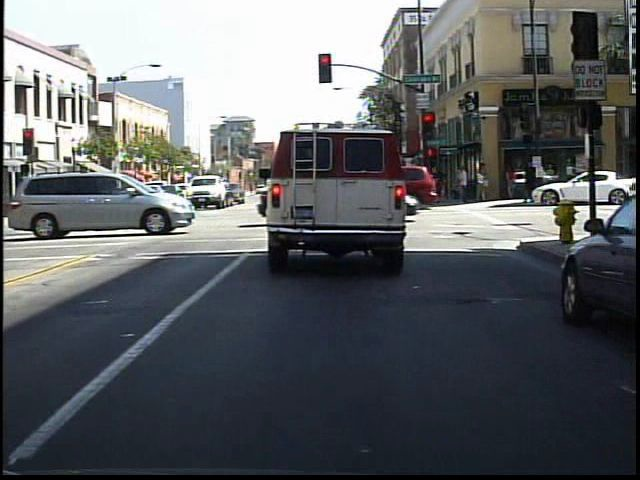person: (519, 156, 539, 206), (505, 160, 518, 199)
